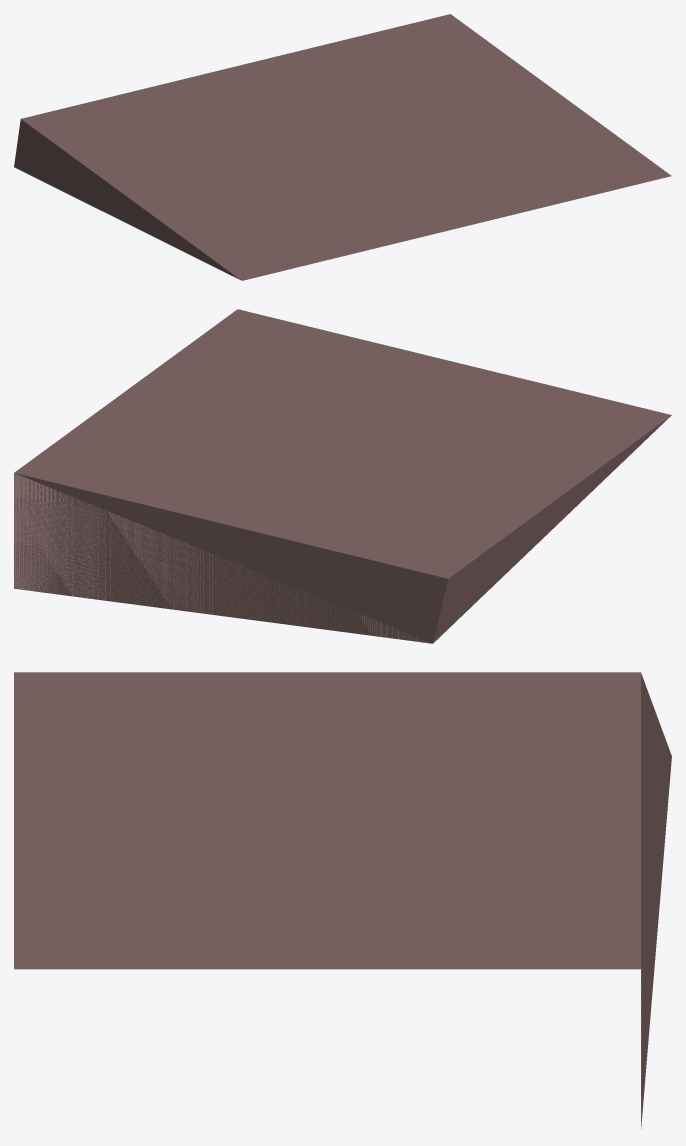
The model's file is ramp.glb.
The picture shows the model from 3 angles, top to bottom: view 1: azimuth 30°, elevation 25°; view 2: azimuth 150°, elevation 25°; view 3: azimuth 270°, elevation 25°; orthographic projection. The views are drawn at different scales.
Parts seen in each view (by area): view 1: Cube; view 2: Cube; view 3: Cube.
Boxes of the visible parts, bbox=[...] form: Cube: bbox=[14, 14, 671, 280]; Cube: bbox=[14, 309, 671, 643]; Cube: bbox=[14, 672, 671, 1129].
Bounding box in the file's own units: 2.04 × 0.52 × 1.91.
